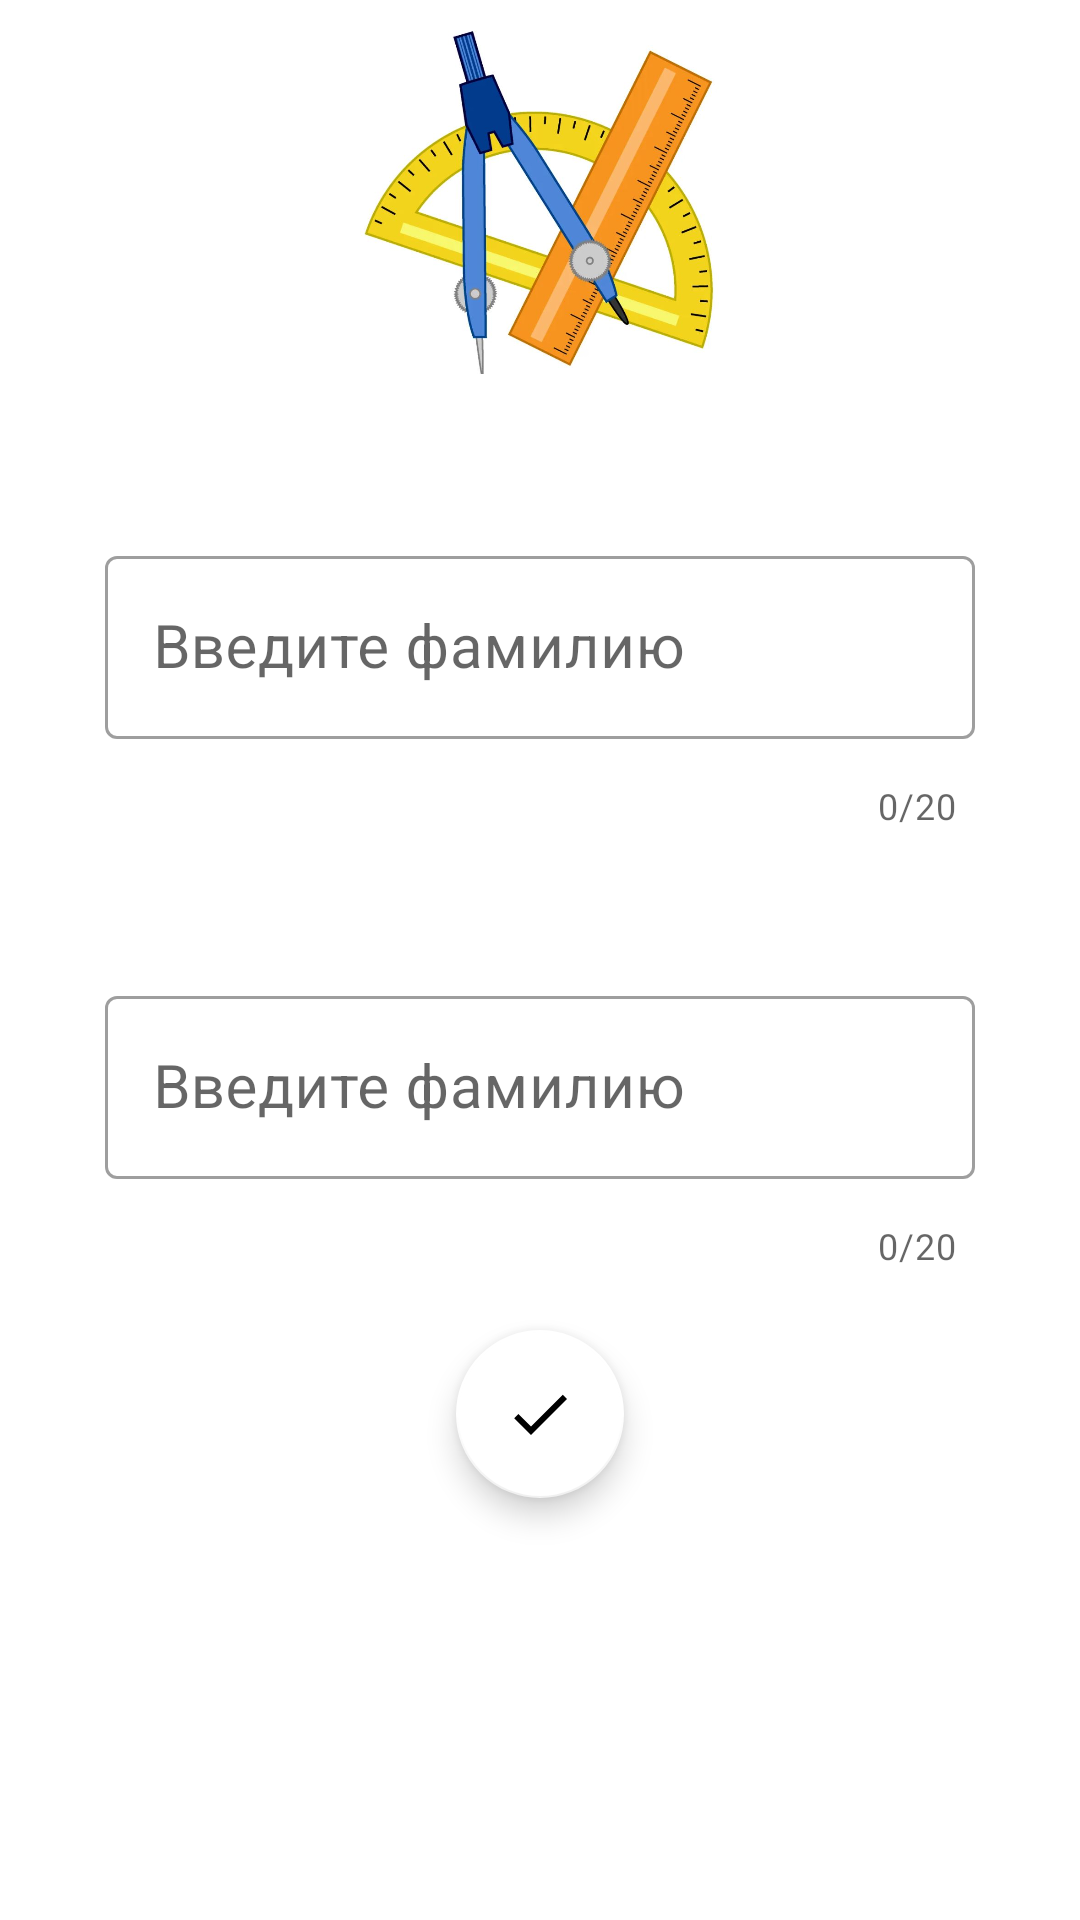

Screen size 1080w x 1920h. Icon name, then its center in pixels as [x,y]:
done: [540,1446]
